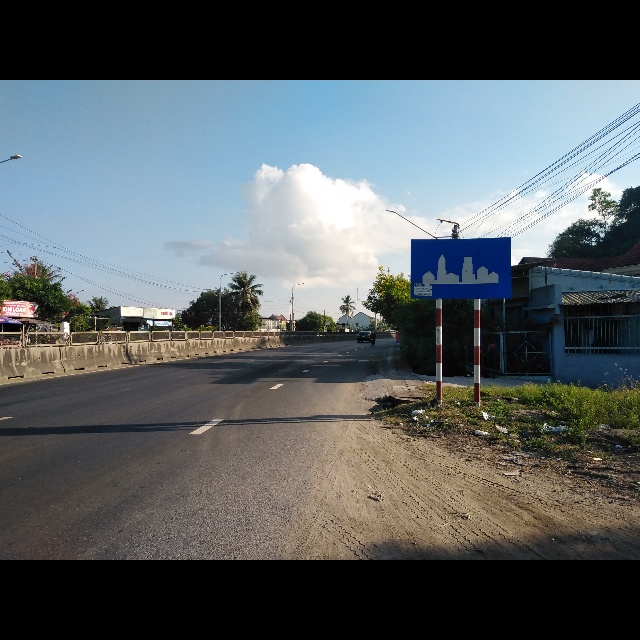Khu đông dân cư: (408, 237, 512, 299)
